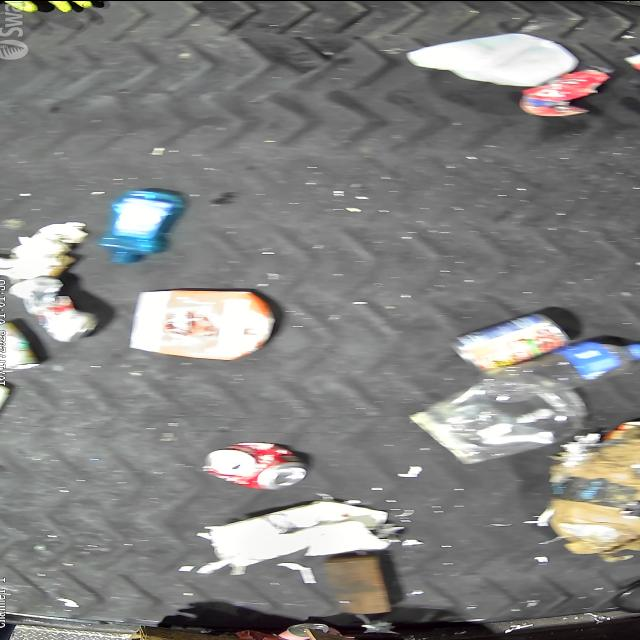can: (452, 310, 578, 370), (202, 442, 308, 491), (0, 320, 38, 370)
milk_jug: (404, 32, 576, 85)
non_white_jug: (134, 288, 280, 361)
plastic_bottle: (489, 337, 640, 387), (8, 275, 101, 340)
